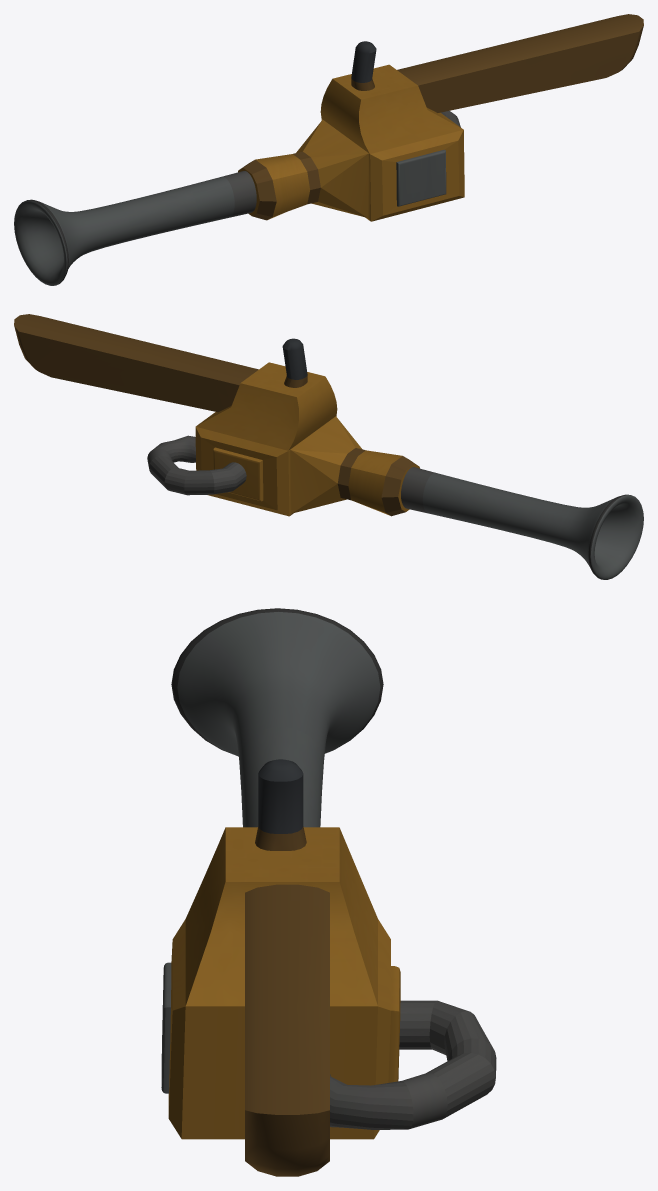
File: Arma steamMadness.fbx
3 views of the same model, one above another, from view 1: azimuth 30°, elevation 25°; view 2: azimuth 150°, elevation 25°; view 3: azimuth 270°, elevation 25° (orthographic). The views are drawn at different scales.
Parts seen in each view (by area): view 1: Empunhadura1; view 2: Empunhadura1; view 3: Empunhadura1.
Boxes of the visible parts, x1=… form: Empunhadura1: x1=14, y1=14, x2=643, y2=285; Empunhadura1: x1=14, y1=314, x2=643, y2=579; Empunhadura1: x1=161, y1=608, x2=496, y2=1176.
Size of the model in its own units: 10.45 by 2.63 by 2.53.
